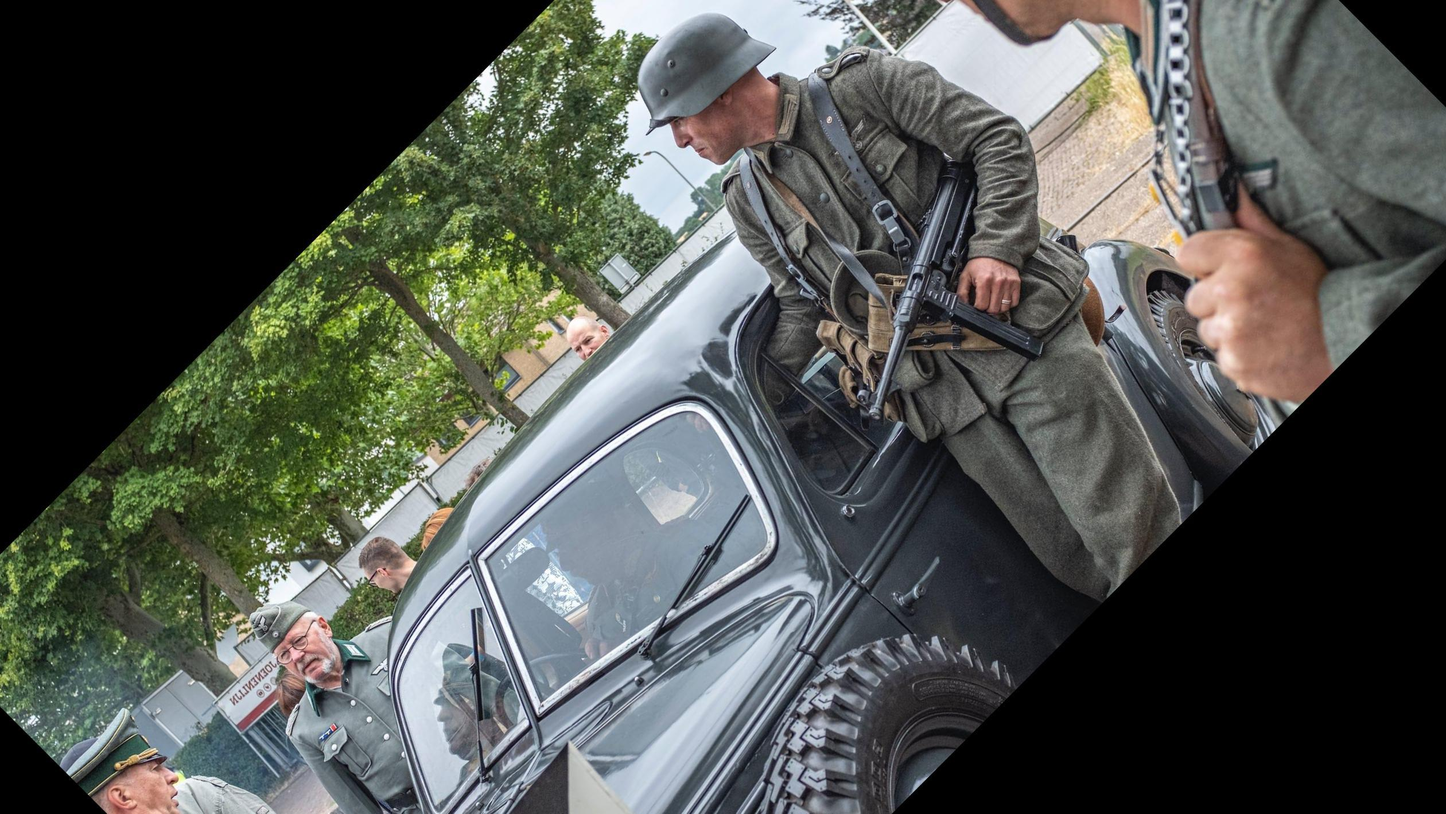larga: (857, 159, 1046, 421)
